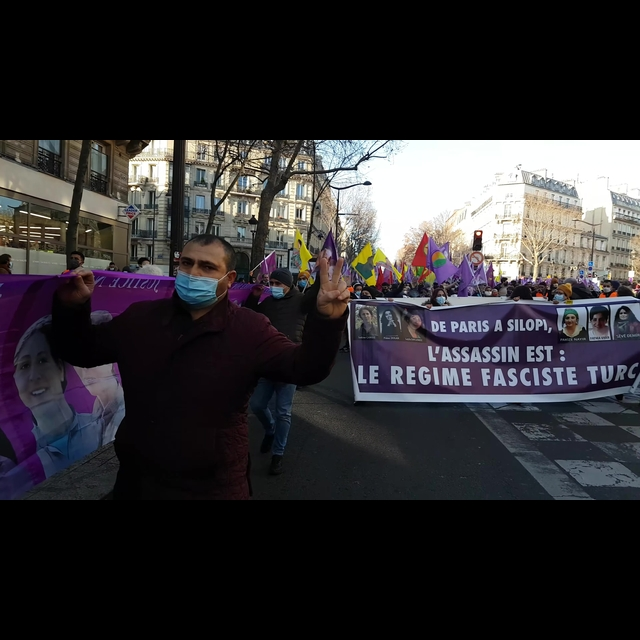ZI: (311, 254, 352, 323)
